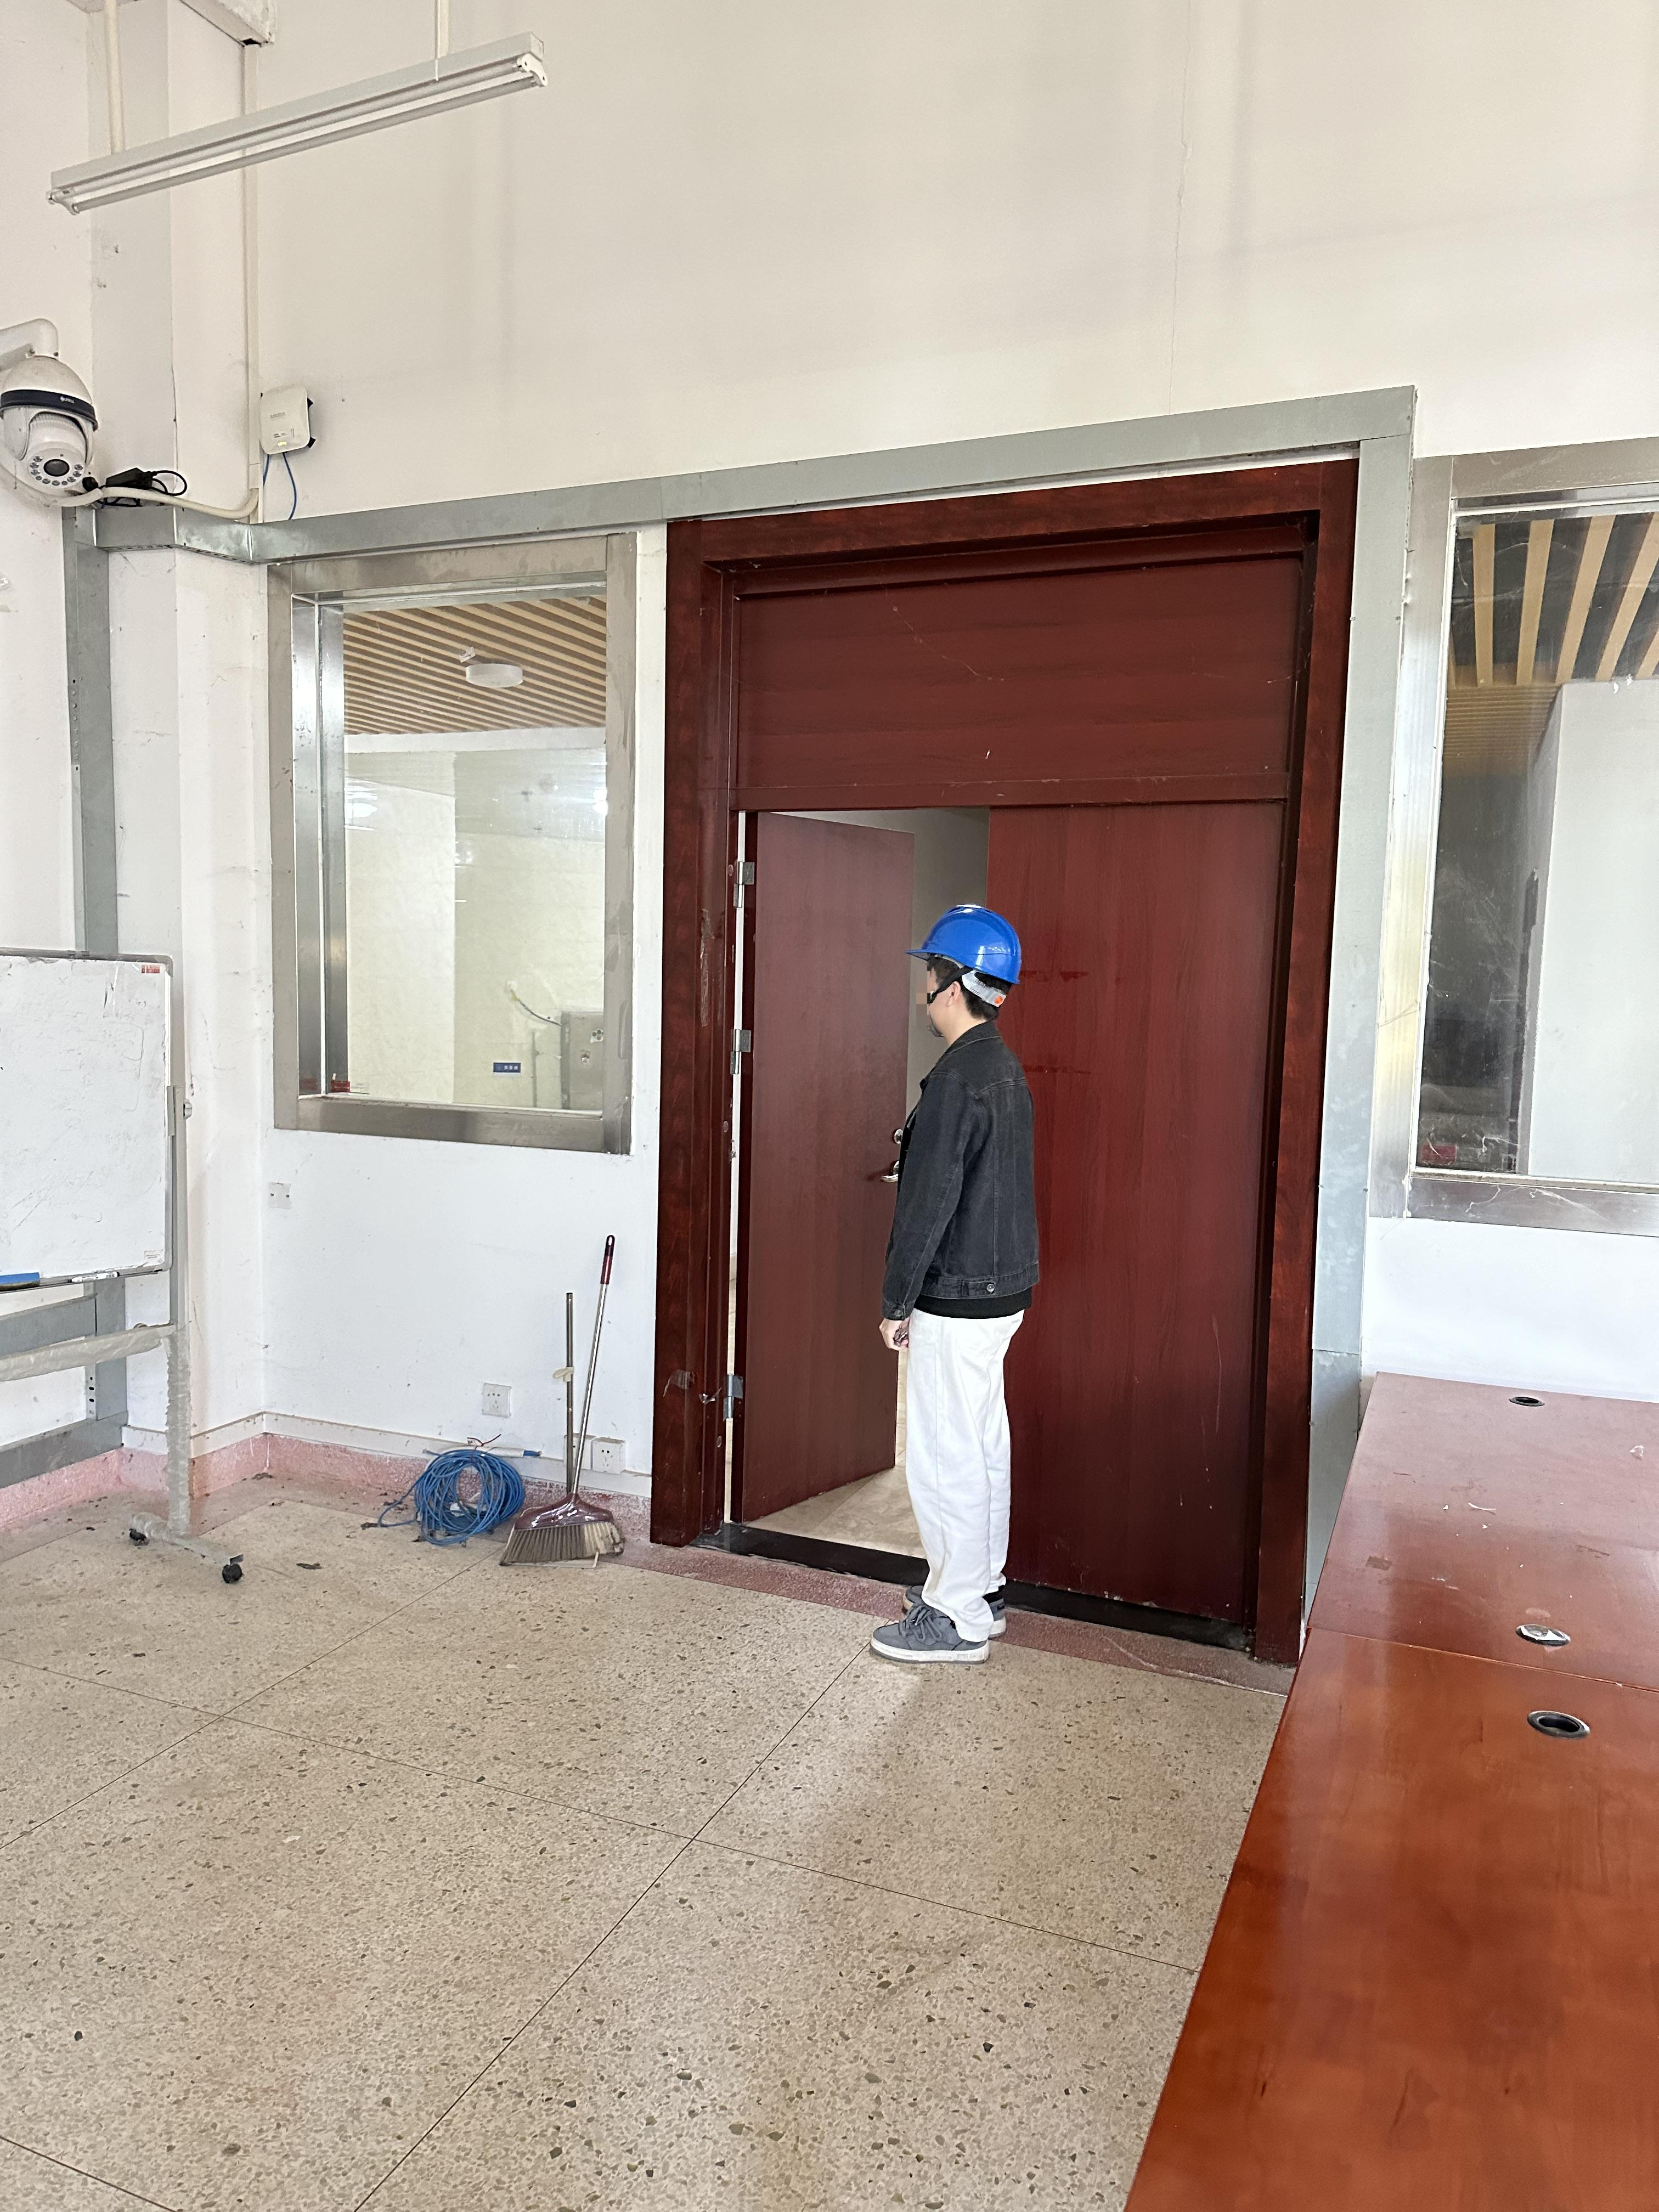halt: (903, 909, 1032, 1045)
outear: (929, 968, 965, 1019)
